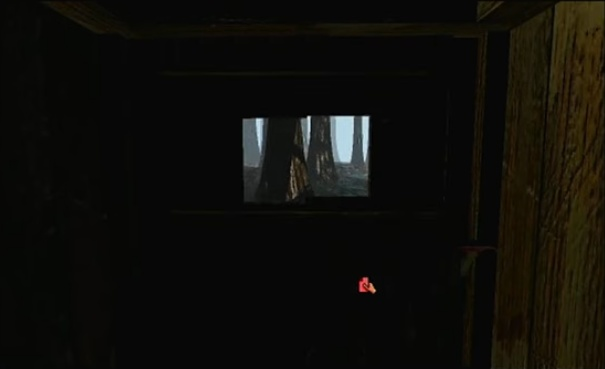Keep: (355, 273, 380, 296)
